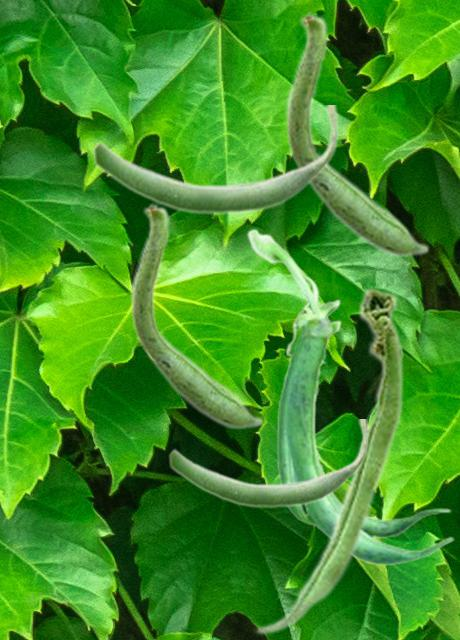french_bean: (246, 228, 453, 565), (254, 285, 403, 635), (285, 10, 429, 257), (130, 201, 263, 429), (92, 105, 338, 215), (168, 419, 368, 508)
